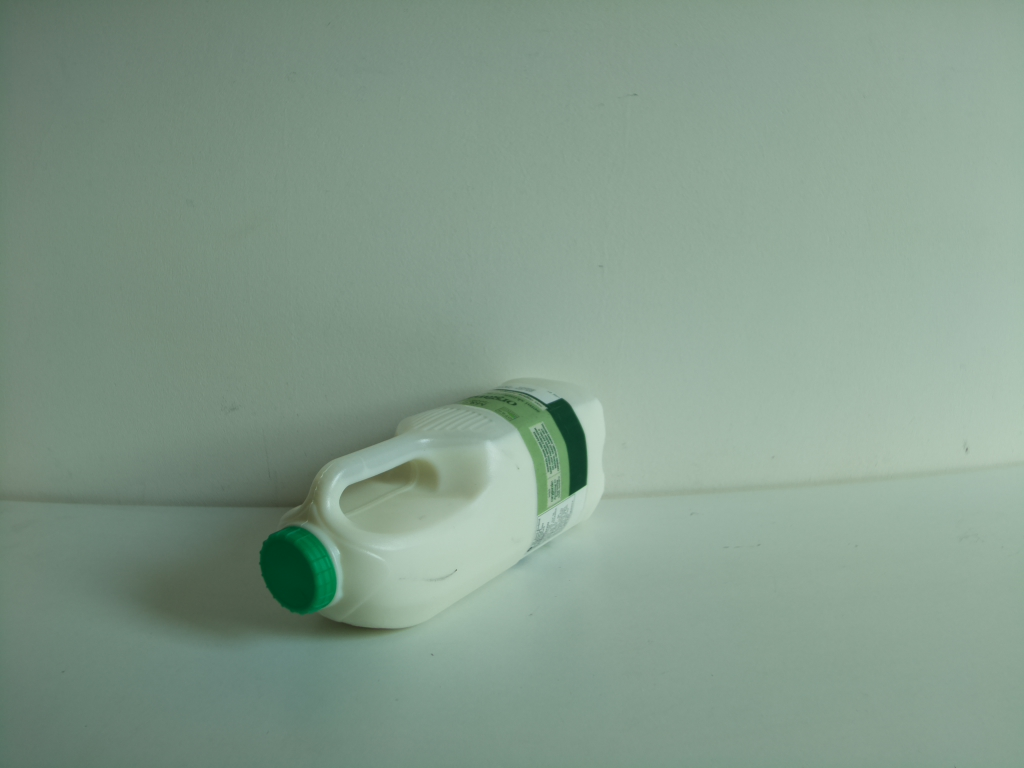milk: (256, 370, 610, 649)
